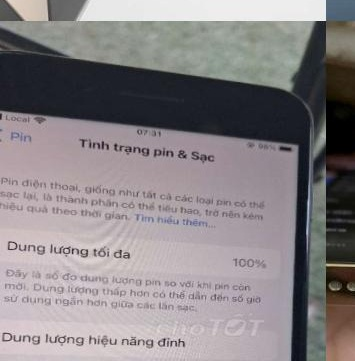scratch: (326, 248, 355, 325), (0, 43, 39, 61)
